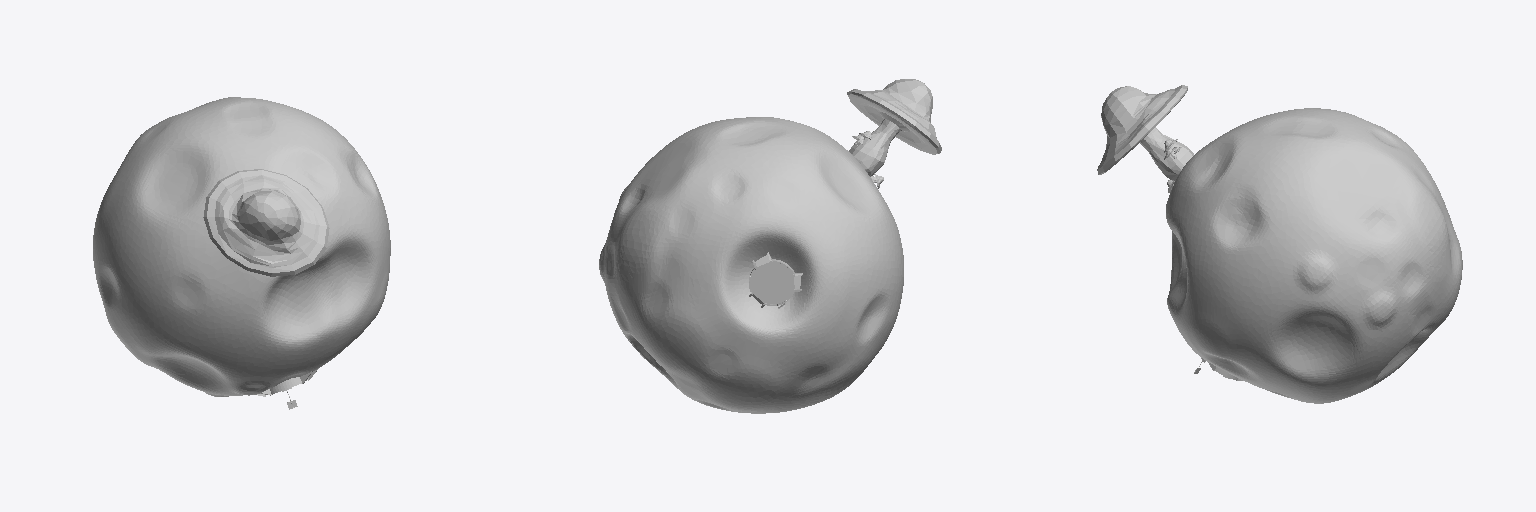
The model's file is planete1test2.obj.
3 renders of one model, left to right at view 1: azimuth 30°, elevation 25°; view 2: azimuth 150°, elevation 25°; view 3: azimuth 270°, elevation 25°, orthographic.
Visible parts, largest first — view 1: Sphere_Sphere.001, champignon005_Plane.019; view 2: Sphere_Sphere.001, champignon005_Plane.019, Poteau_Cylinder.001; view 3: Sphere_Sphere.001, champignon005_Plane.019.
Part boxes in pixels (left/top/right/bottom): Sphere_Sphere.001: left=93, top=97, right=390, bottom=396; champignon005_Plane.019: left=203, top=169, right=329, bottom=276; Sphere_Sphere.001: left=599, top=117, right=903, bottom=413; champignon005_Plane.019: left=847, top=79, right=941, bottom=188; Poteau_Cylinder.001: left=749, top=252, right=802, bottom=308; Sphere_Sphere.001: left=1166, top=108, right=1462, bottom=403; champignon005_Plane.019: left=1097, top=85, right=1193, bottom=192.
Size of the model in its own units: 1 by 1.01 by 1.23.